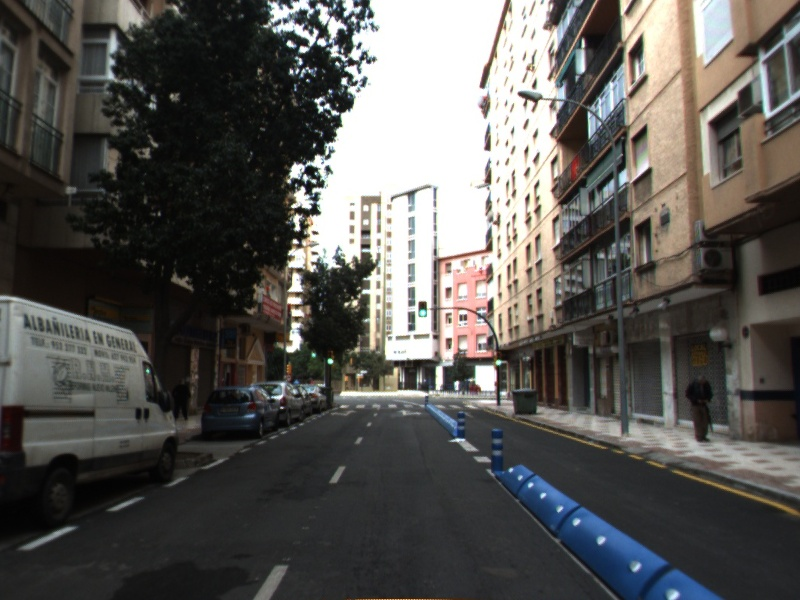STRAIGHT_LEFT: (329, 408, 358, 418)
STRAIGHT_RIGHT: (395, 408, 423, 417)
